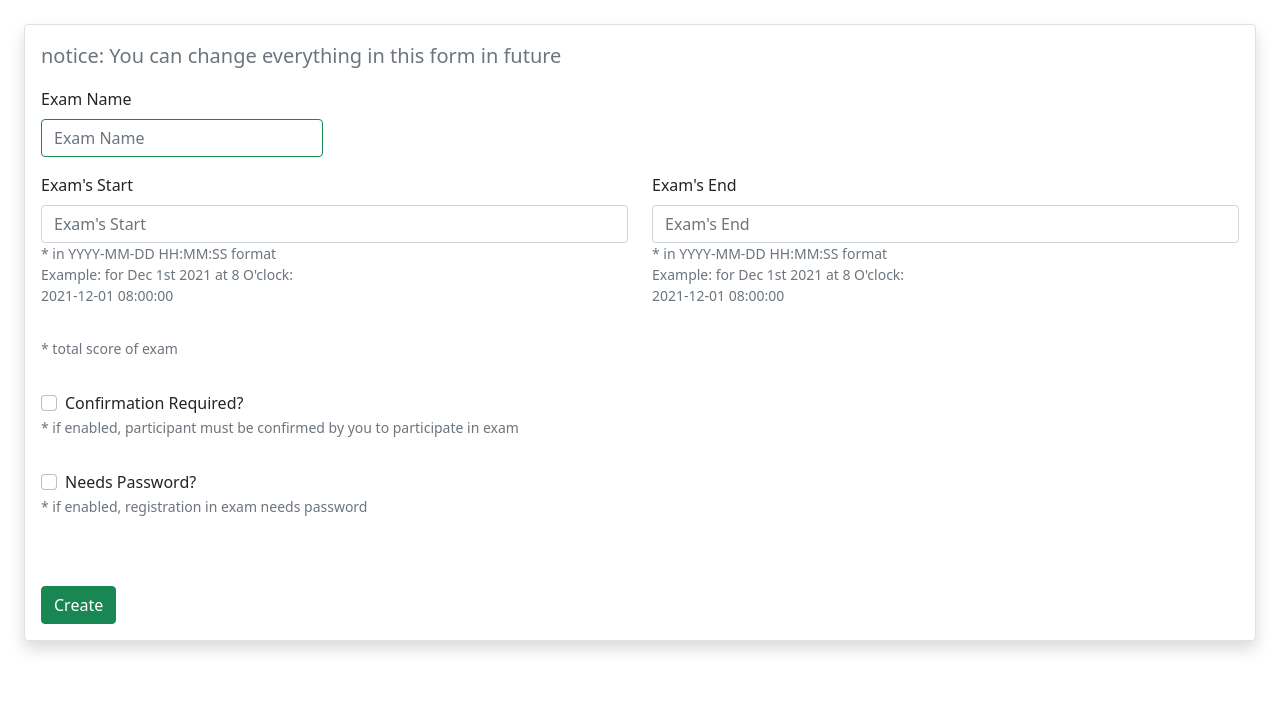
Scenario: if exam needs password, the password field will be shown
Click the checkbox labelled "Needs Password?".
click(49, 482)  # box [41,474,57,490]
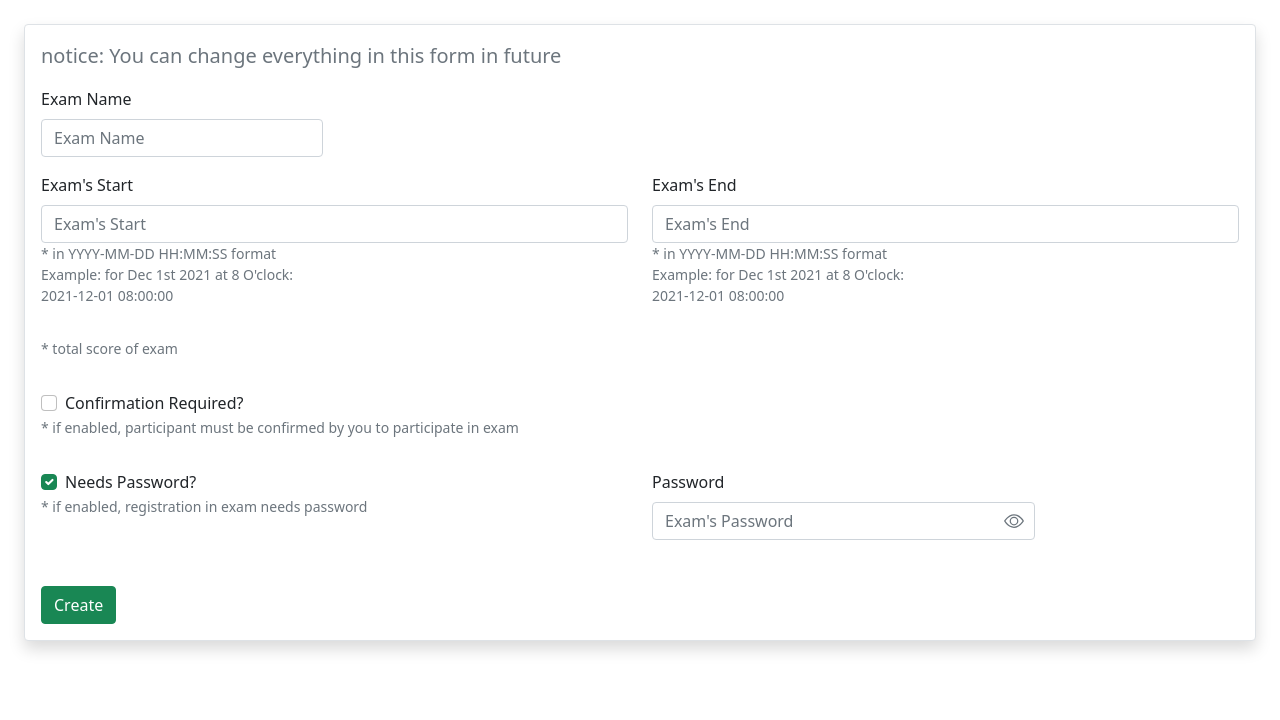
Expected: the checkbox labelled "Needs Password?" is checked, [41,474,57,490]
Expected: the password field with placeholder "Exam's Password" is shown, [652,502,1035,540]
